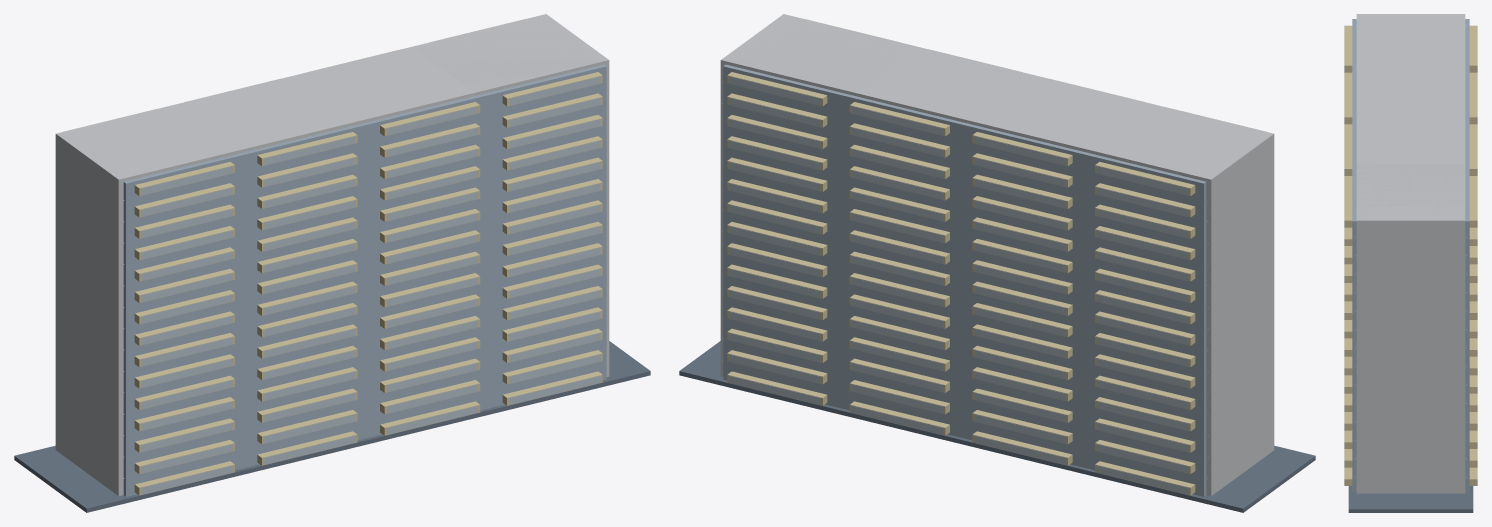
File: building.glb
3 views of the same model, side by side, from view 1: azimuth 30°, elevation 25°; view 2: azimuth 150°, elevation 25°; view 3: azimuth 270°, elevation 25° (orthographic). The views are drawn at different scales.
Visible parts, largest first — view 1: world; view 2: world; view 3: world.
Part boxes in pixels (bbox=[...]): world: bbox=[14, 14, 650, 512]; world: bbox=[679, 14, 1315, 512]; world: bbox=[1344, 14, 1477, 512].
Size of the model in its own units: 82.8 by 45 by 19.68.
